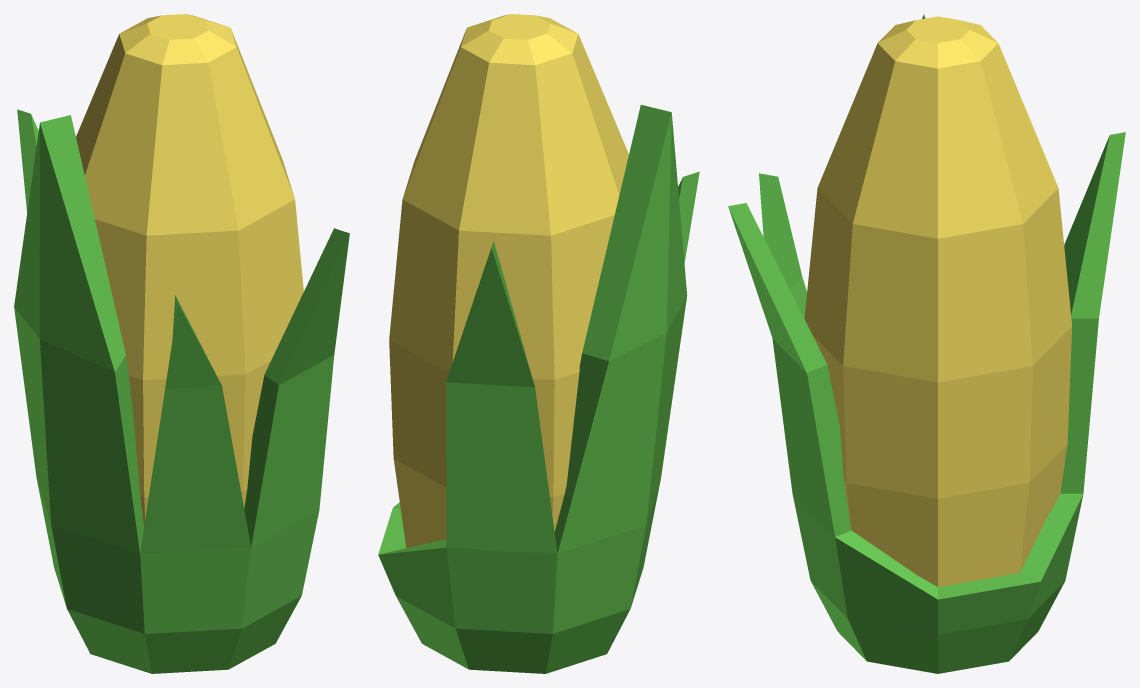
File: corn_cob_02.fbx
The picture shows the model from 3 angles, left to right: view 1: azimuth 30°, elevation 25°; view 2: azimuth 150°, elevation 25°; view 3: azimuth 270°, elevation 25°; orthographic projection.
Visible parts, largest first — view 1: corn_cob_02; view 2: corn_cob_02; view 3: corn_cob_02.
Boxes of the visible parts, x1,y1,x2,y2 form: corn_cob_02: (14, 14, 349, 673); corn_cob_02: (378, 14, 699, 673); corn_cob_02: (728, 14, 1125, 673).
Bounding box in the file's own units: 11.85 × 25.22 × 15.11.
